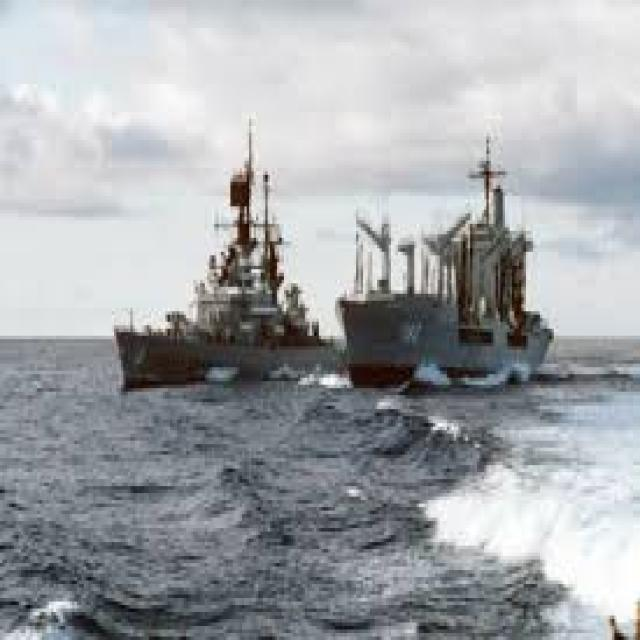navalvessels: (331, 120, 578, 409), (110, 142, 320, 372)
